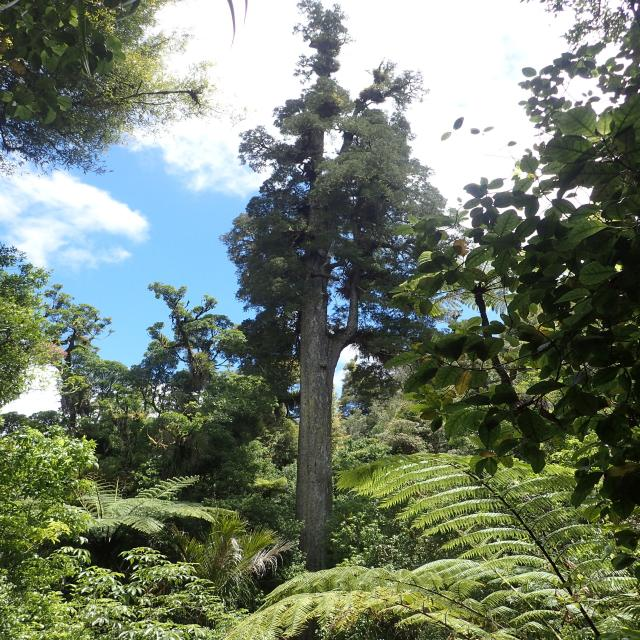Kahikatea: (226, 12, 413, 560)
